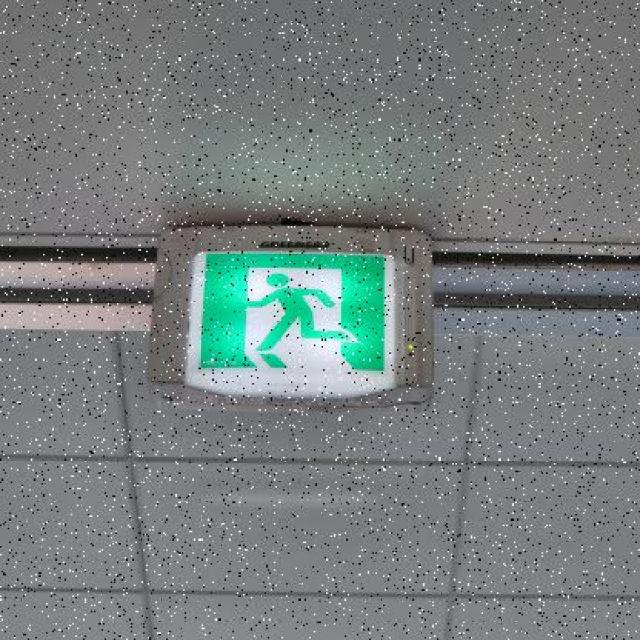emergency_exit: (184, 248, 399, 400)
